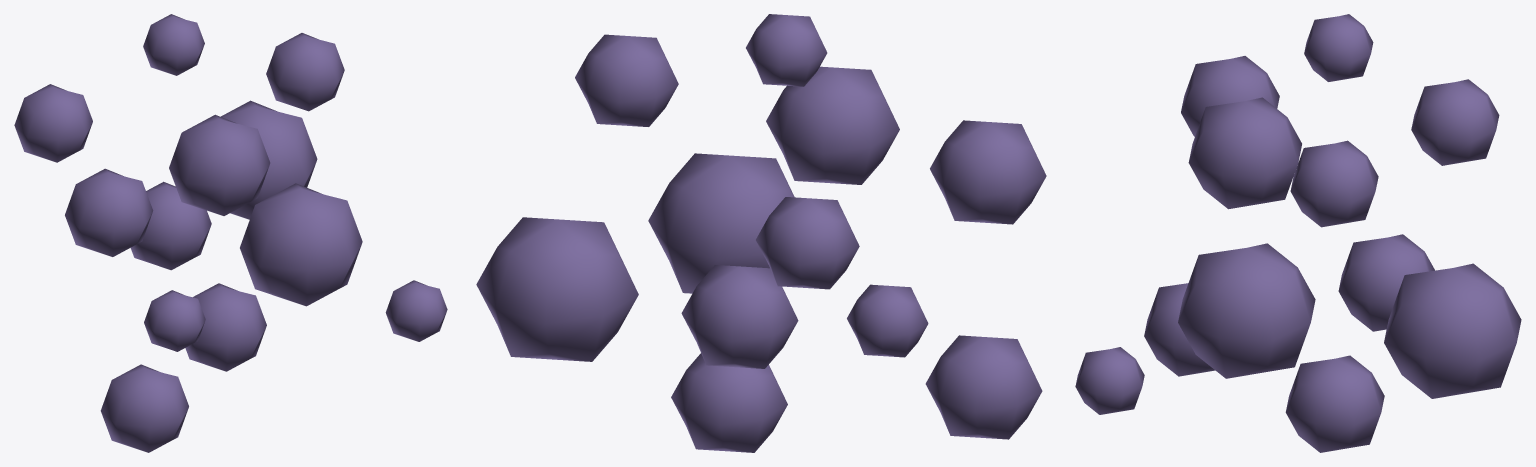
The model's file is asteroidPlant_fruit.fbx.
The picture shows the model from 3 angles, left to right: view 1: azimuth 30°, elevation 25°; view 2: azimuth 150°, elevation 25°; view 3: azimuth 270°, elevation 25°; orthographic projection. The views are drawn at different scales.
Parts seen in each view (by area): view 1: asteroidPlant_pickedFruit6, asteroidPlant_pickedFruit7, asteroidPlant_pickedFruit13, asteroidPlant_pickedFruit3, asteroidPlant_pickedFruit10, asteroidPlant_pickedFruit12, asteroidPlant_pickedFruit11, asteroidPlant_pickedFruit8, asteroidPlant_pickedFruit4, asteroidPlant_pickedFruit9, asteroidPlant_pickedFruit1, asteroidPlant_pickedFruit5; view 2: asteroidPlant_pickedFruit12, asteroidPlant_pickedFruit6, asteroidPlant_pickedFruit7, asteroidPlant_pickedFruit13, asteroidPlant_pickedFruit3, asteroidPlant_pickedFruit4, asteroidPlant_pickedFruit10, asteroidPlant_pickedFruit8, asteroidPlant_pickedFruit11, asteroidPlant_pickedFruit1, asteroidPlant_pickedFruit5; view 3: asteroidPlant_pickedFruit12, asteroidPlant_pickedFruit6, asteroidPlant_pickedFruit7, asteroidPlant_pickedFruit10, asteroidPlant_pickedFruit8, asteroidPlant_pickedFruit11, asteroidPlant_pickedFruit4, asteroidPlant_pickedFruit3, asteroidPlant_pickedFruit1, asteroidPlant_pickedFruit9, asteroidPlant_pickedFruit13.
Part boxes in pixels (x1=…): asteroidPlant_pickedFruit6: x1=240, y1=183, x2=362, y2=306; asteroidPlant_pickedFruit7: x1=169, y1=114, x2=270, y2=215; asteroidPlant_pickedFruit13: x1=100, y1=364, x2=188, y2=452; asteroidPlant_pickedFruit3: x1=65, y1=168, x2=153, y2=256; asteroidPlant_pickedFruit10: x1=185, y1=283, x2=266, y2=371; asteroidPlant_pickedFruit12: x1=221, y1=100, x2=317, y2=219; asteroidPlant_pickedFruit11: x1=14, y1=84, x2=92, y2=162; asteroidPlant_pickedFruit8: x1=266, y1=33, x2=344, y2=111; asteroidPlant_pickedFruit4: x1=130, y1=181, x2=211, y2=270; asteroidPlant_pickedFruit9: x1=385, y1=280, x2=447, y2=341; asteroidPlant_pickedFruit1: x1=143, y1=14, x2=204, y2=75; asteroidPlant_pickedFruit5: x1=144, y1=290, x2=205, y2=351; asteroidPlant_pickedFruit12: x1=476, y1=217, x2=638, y2=361; asteroidPlant_pickedFruit6: x1=648, y1=153, x2=794, y2=293; asteroidPlant_pickedFruit7: x1=766, y1=66, x2=899, y2=184; asteroidPlant_pickedFruit13: x1=925, y1=335, x2=1042, y2=439; asteroidPlant_pickedFruit3: x1=930, y1=120, x2=1046, y2=224; asteroidPlant_pickedFruit4: x1=681, y1=265, x2=798, y2=368; asteroidPlant_pickedFruit10: x1=671, y1=353, x2=787, y2=452; asteroidPlant_pickedFruit8: x1=575, y1=34, x2=678, y2=126; asteroidPlant_pickedFruit11: x1=756, y1=197, x2=859, y2=289; asteroidPlant_pickedFruit1: x1=746, y1=14, x2=827, y2=86; asteroidPlant_pickedFruit5: x1=847, y1=284, x2=928, y2=357; asteroidPlant_pickedFruit12: x1=1384, y1=263, x2=1521, y2=398; asteroidPlant_pickedFruit6: x1=1178, y1=243, x2=1315, y2=378; asteroidPlant_pickedFruit7: x1=1188, y1=97, x2=1301, y2=209; asteroidPlant_pickedFruit10: x1=1285, y1=355, x2=1384, y2=452; asteroidPlant_pickedFruit8: x1=1290, y1=140, x2=1378, y2=227; asteroidPlant_pickedFruit11: x1=1411, y1=79, x2=1499, y2=165; asteroidPlant_pickedFruit4: x1=1338, y1=234, x2=1434, y2=331; asteroidPlant_pickedFruit3: x1=1181, y1=56, x2=1279, y2=136; asteroidPlant_pickedFruit1: x1=1304, y1=14, x2=1373, y2=81; asteroidPlant_pickedFruit9: x1=1075, y1=347, x2=1144, y2=414; asteroidPlant_pickedFruit13: x1=1144, y1=283, x2=1215, y2=376.
Bounding box in the file's own units: 21.91 × 22.55 × 22.32.
